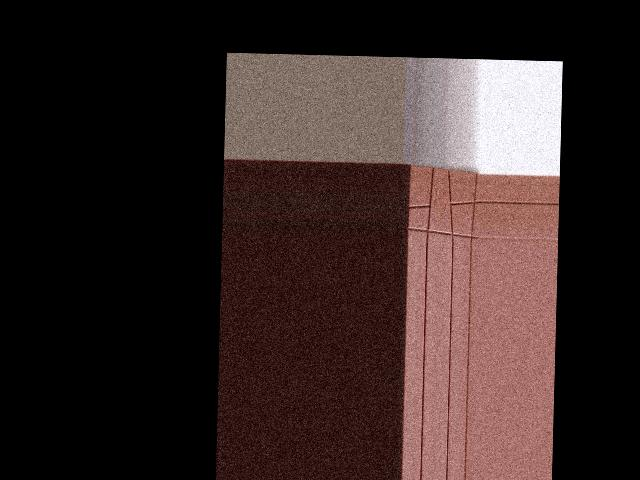chocolate: (404, 162, 480, 242)
